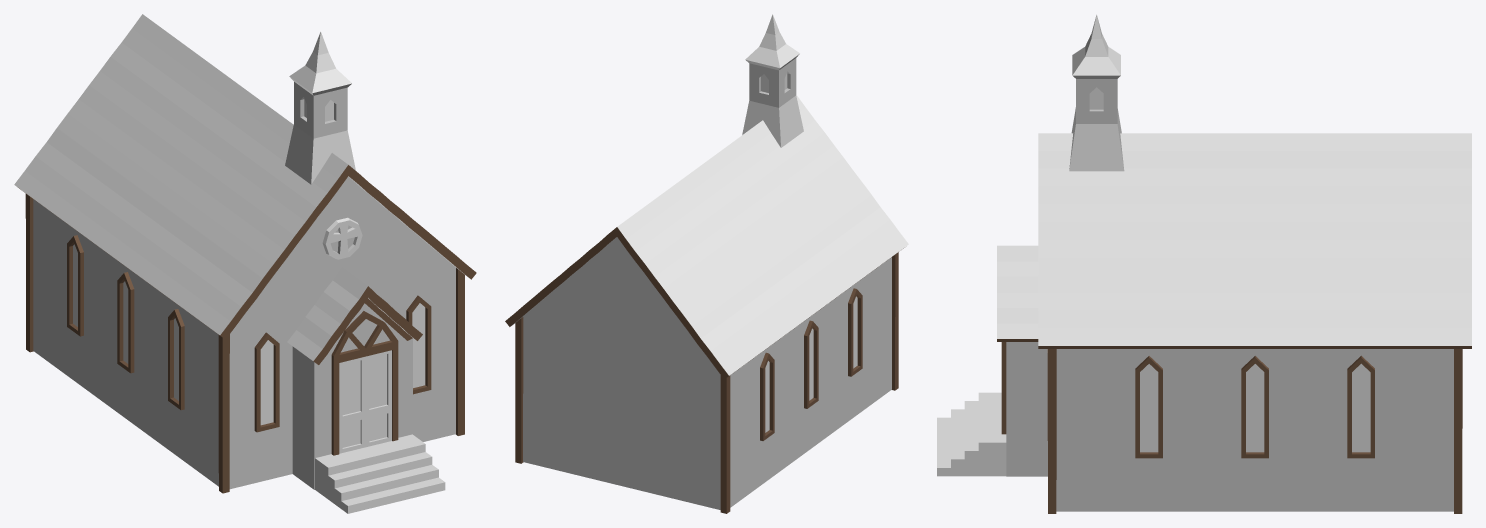
The model's file is western-church.fbx.
3 views of the same model, side by side, from view 1: azimuth 30°, elevation 25°; view 2: azimuth 150°, elevation 25°; view 3: azimuth 270°, elevation 25° (orthographic). The views are drawn at different scales.
Visible parts, largest first — view 1: western-church; view 2: western-church; view 3: western-church.
Boxes of the visible parts, x1,y1,x2,y2 form: western-church: [14, 14, 476, 513]; western-church: [505, 14, 908, 513]; western-church: [937, 14, 1471, 513].
Size of the model in its own units: 6.77 by 10.47 by 11.6.
